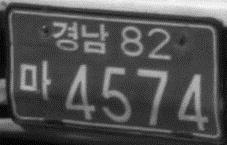2: (145, 27, 171, 62)
4: (176, 73, 210, 131), (62, 63, 96, 120)
5: (100, 64, 133, 123)
7: (134, 65, 169, 129)
8: (119, 24, 144, 56)
경남_O: (50, 18, 109, 55)
마: (17, 59, 53, 102)
